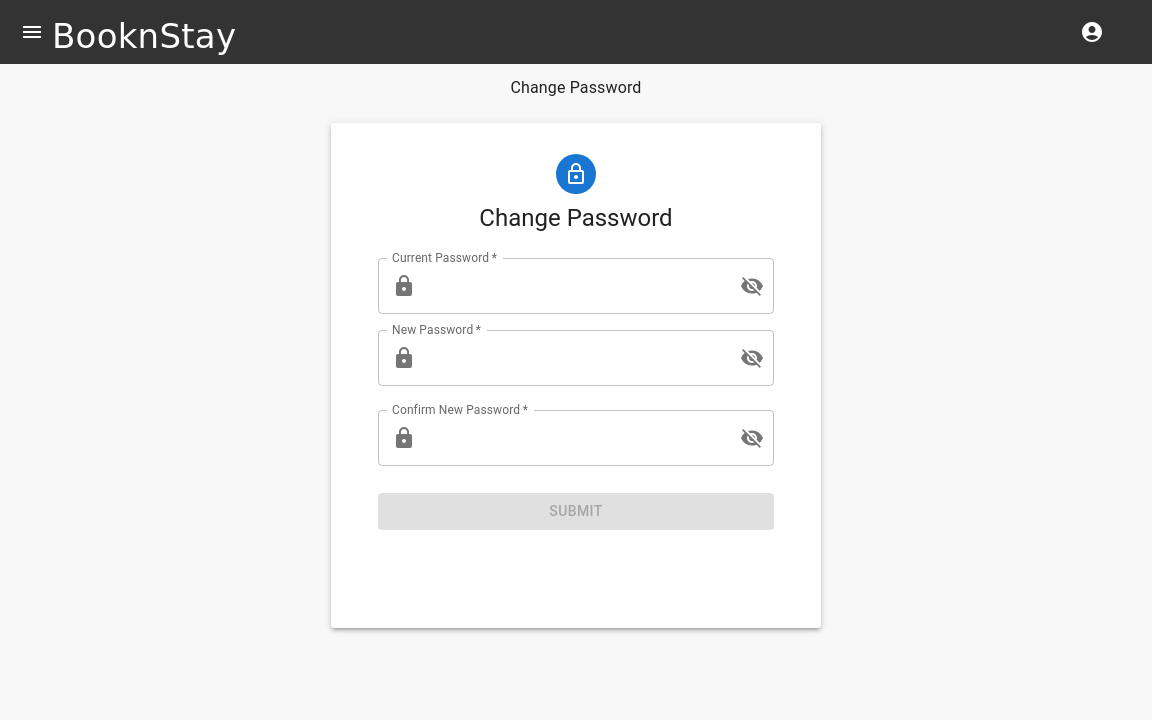
Test: handles password change and sets error message when new password is the same as the current password
The width and height of the screenshot is (1152, 720).
Type "currentPassword" into the password field labelled "Current Password *".
click(574, 286); type("currentPassword")  # box [424,258,724,314]
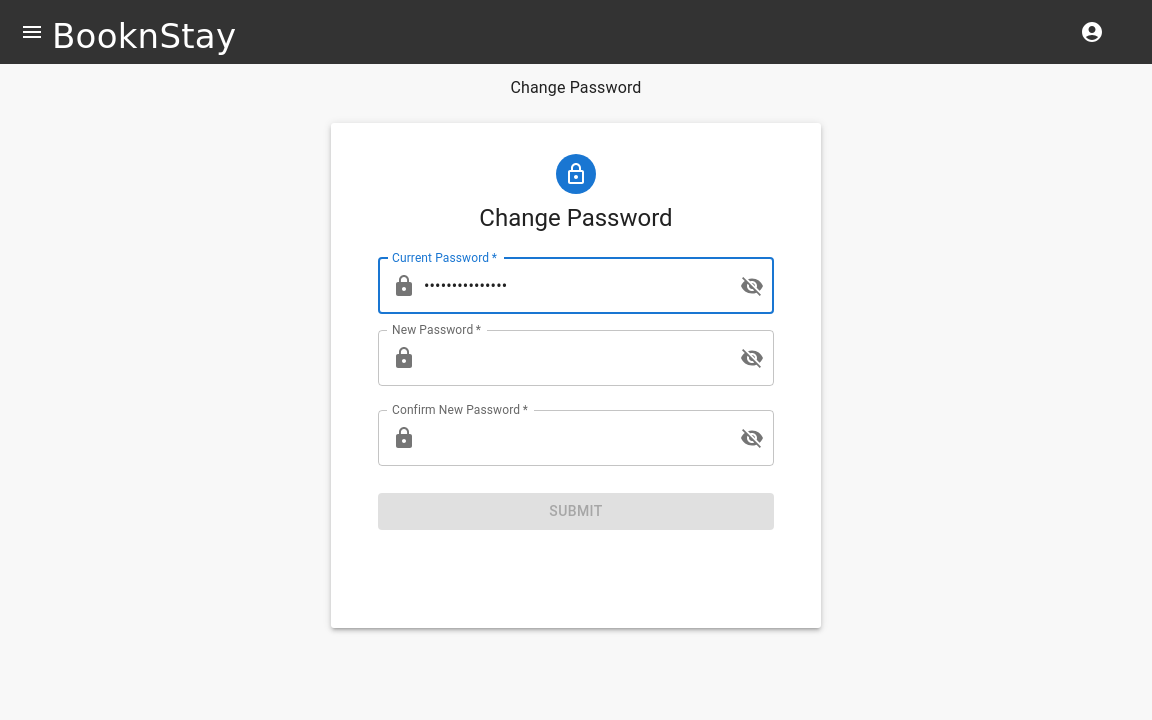
Type "currentPassword" into the password field with test id "new_password".
click(574, 358); type("currentPassword")  # box [424,330,724,386]
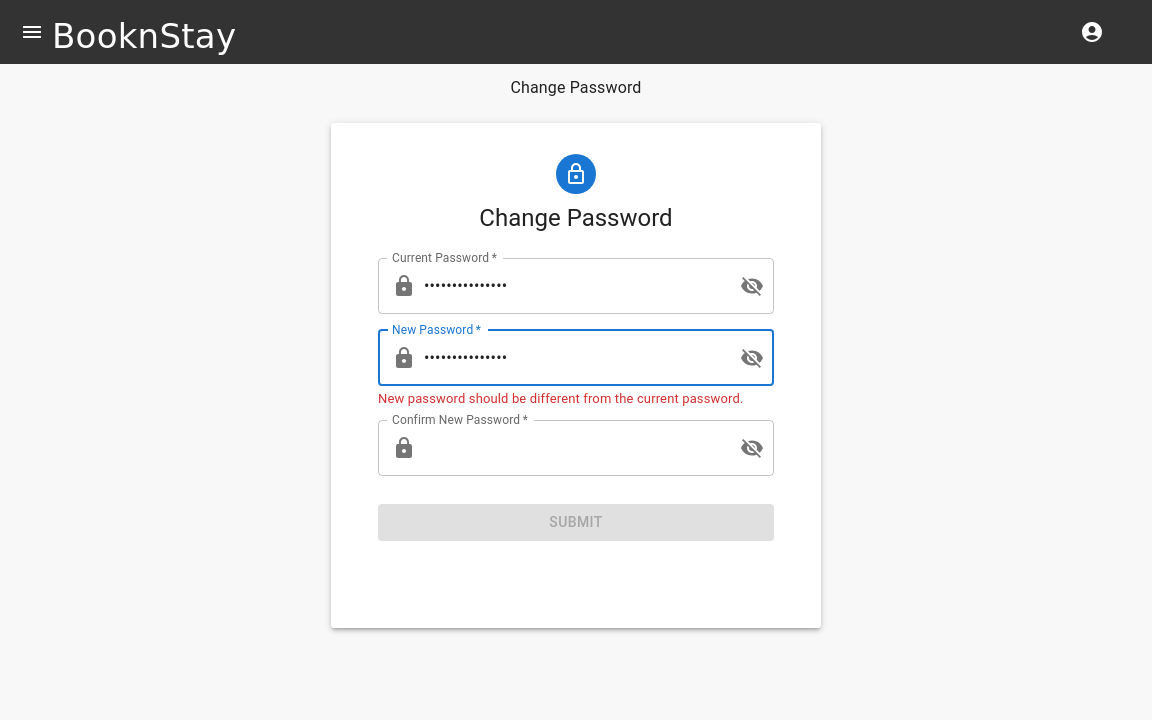
Expected: the text "New password should be different from the current password." is shown, [378,390,774,408]
